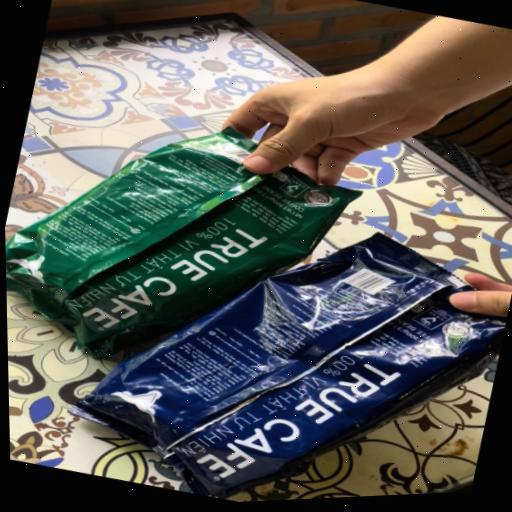cafe_hat: (70, 234, 507, 499)
cafe_xay: (5, 127, 360, 358)
